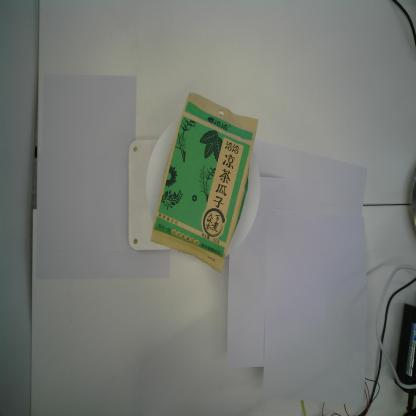Dried Food: (148, 90, 260, 272)
